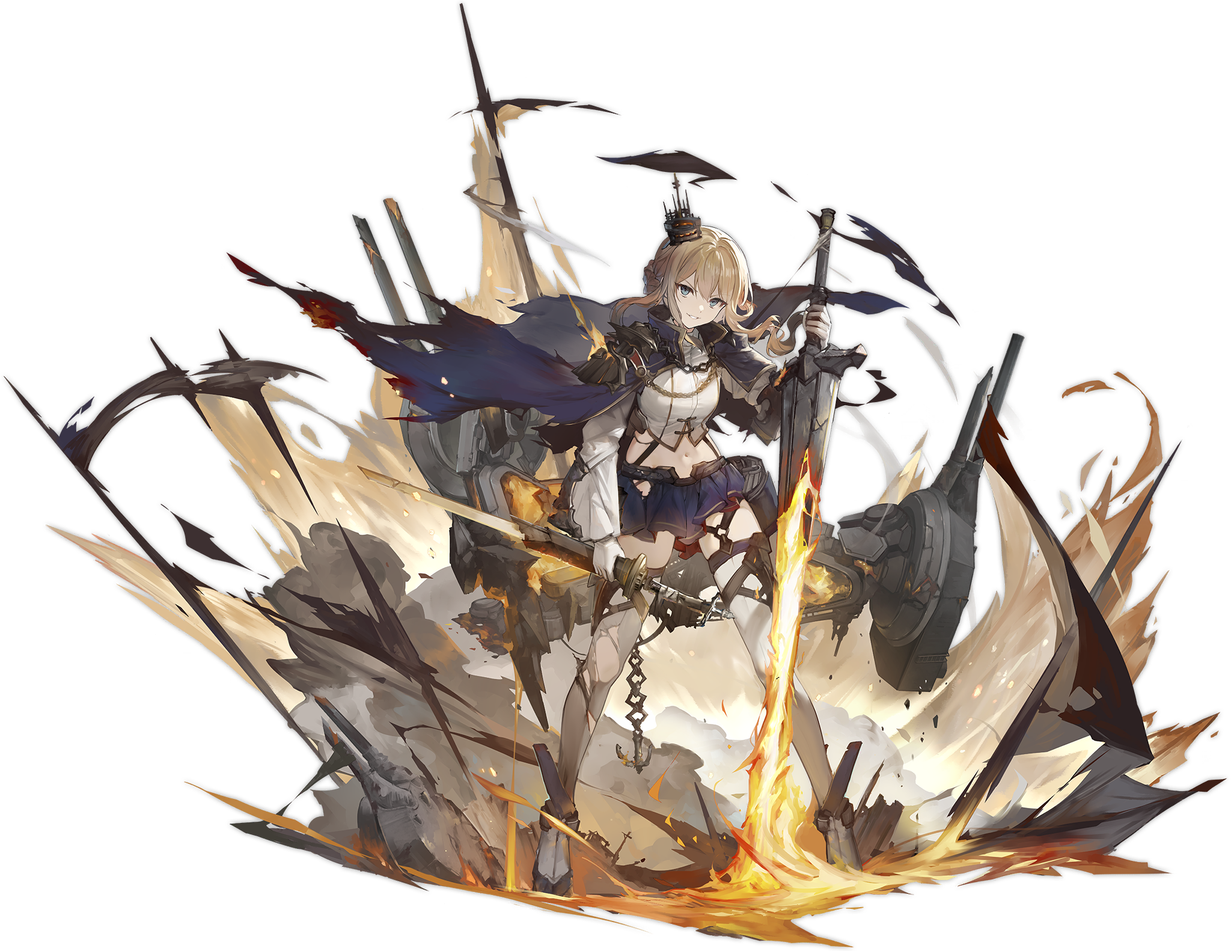person: (542, 208, 801, 891)
